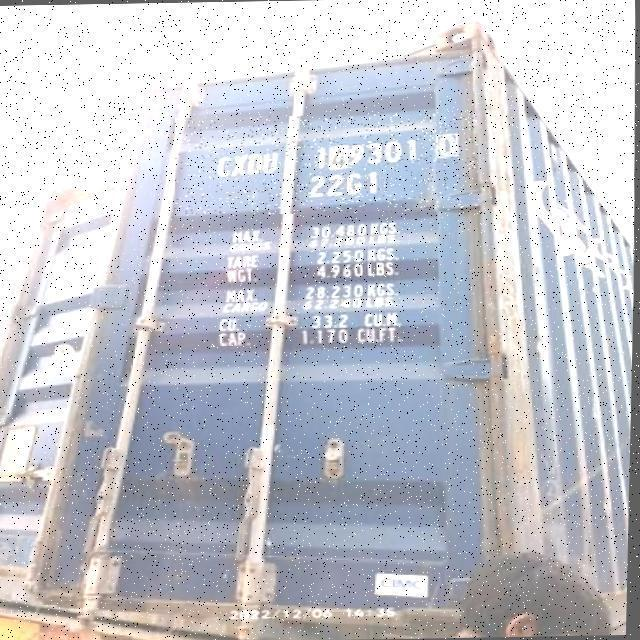container_number_h: (174, 113, 480, 216)
